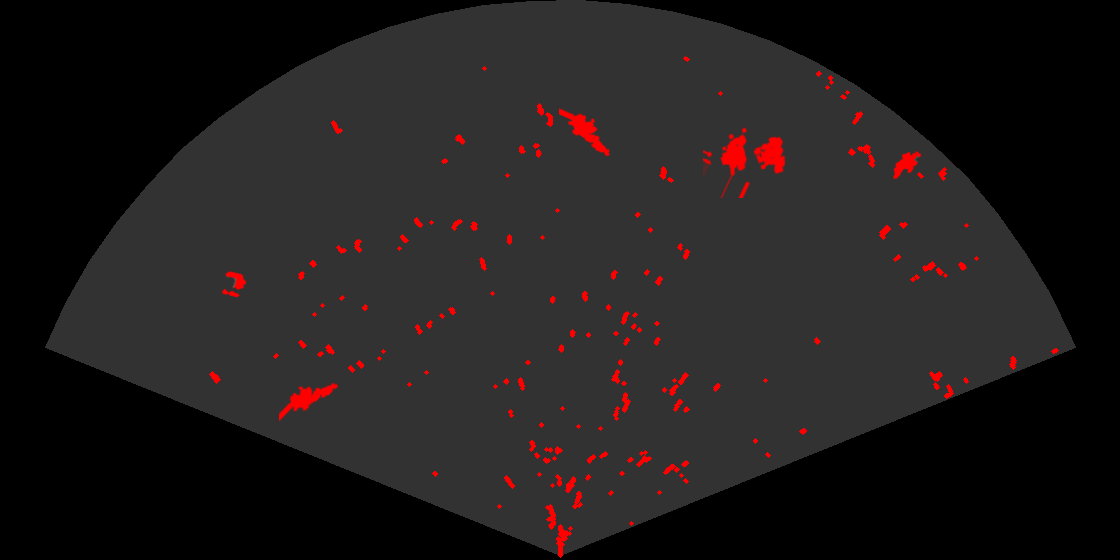AUV: (892, 150, 923, 181)
ball: (220, 270, 248, 299)
cage: (703, 126, 787, 198)
frogman: (559, 107, 612, 158), (279, 381, 340, 423)
